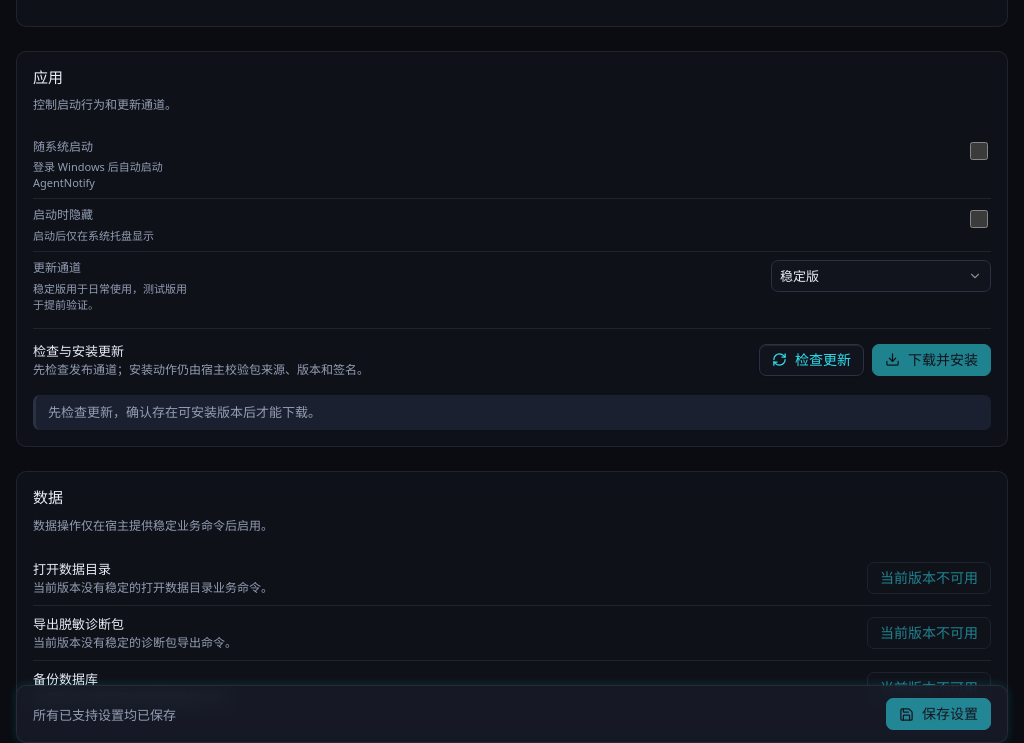
Test: SettingsPage › 检查失败时禁用安装入口并说明原因
(page scrolled)
Expected: the button "下载并安装" is disabled, [872,344,991,376]
Expected: the text "先检查更新，确认存在可安装版本后才能下载。" is shown, [33,395,991,430]
Click the button "检查更新".
click(812, 360)  # box [759,344,864,376]
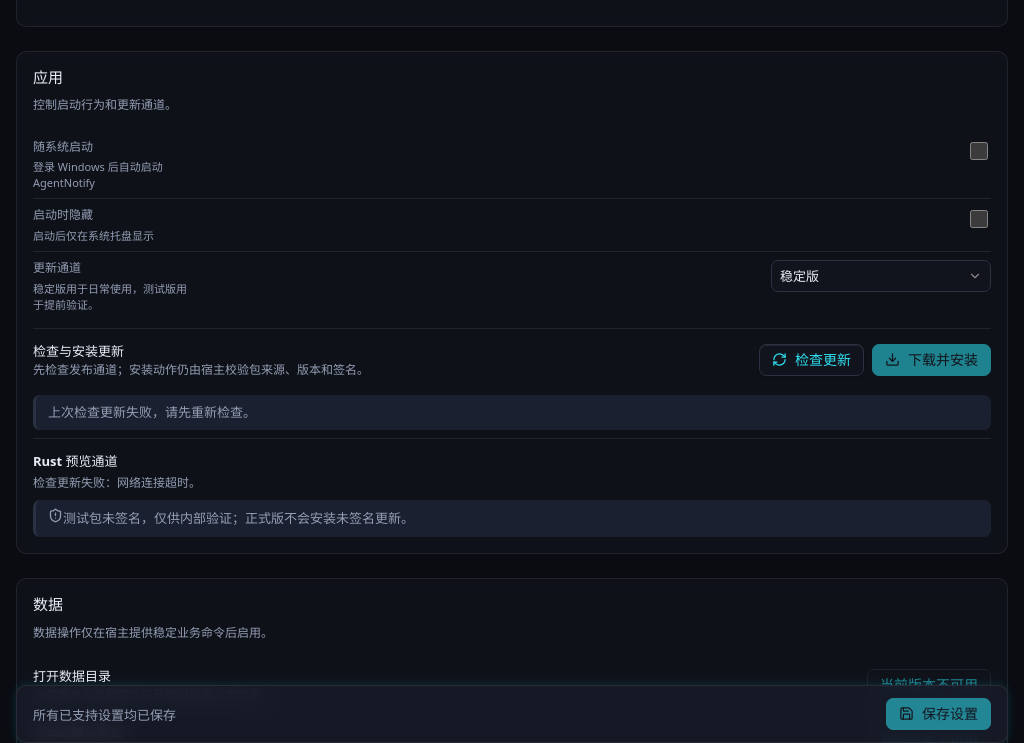
Expected: the button "下载并安装" is disabled, [872,344,991,376]
Now the text "检查更新失败：网络连接超时。" is shown, box [33,474,201,492]
Now the text "上次检查更新失败，请先重新检查。" is shown, box [33,395,991,430]
